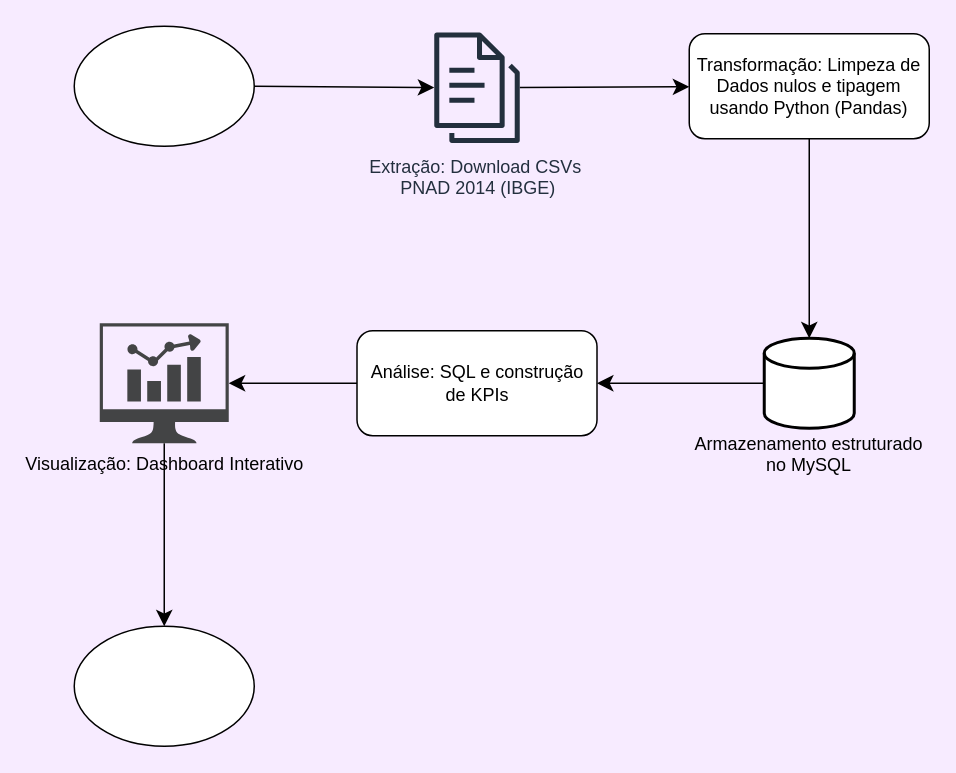
Image size: 956x773. Some labels were removed from this diagram. Here are the shapes that lost their labels. From the top down, the centre of each, then its label:
the point at 163,85: Início do Processo ETL
the point at 163,685: Devolutiva Extensionista
